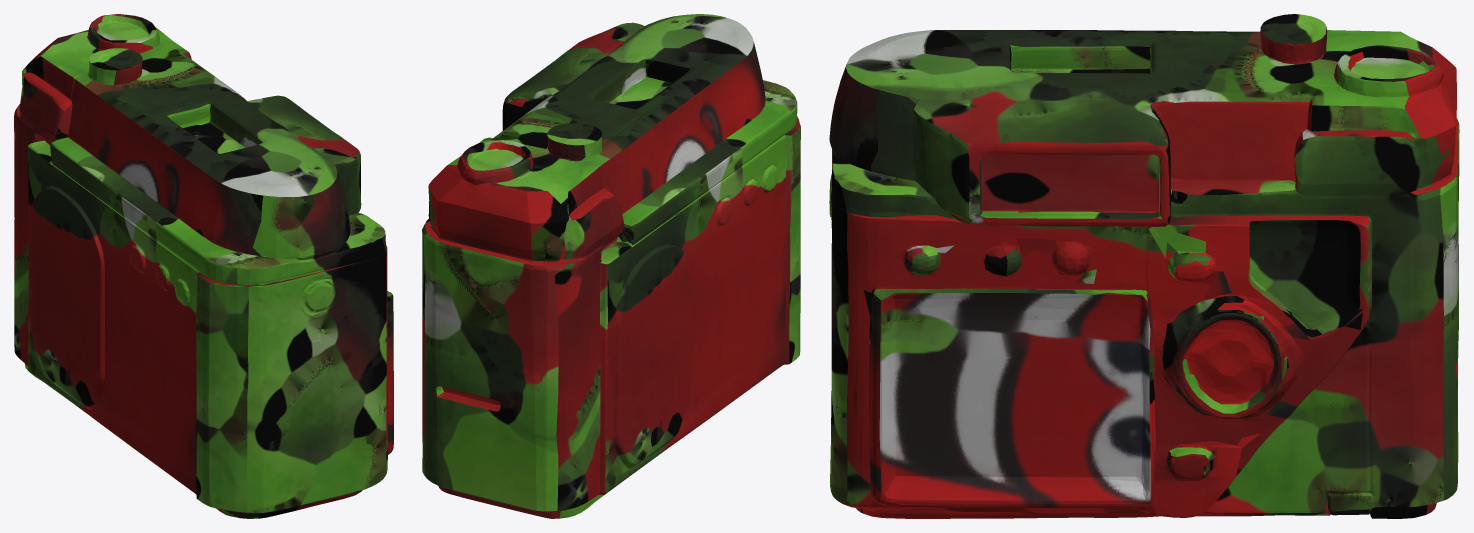
Rendered from sample.obj.
The picture shows the model from 3 angles, left to right: view 1: azimuth 30°, elevation 25°; view 2: azimuth 150°, elevation 25°; view 3: azimuth 270°, elevation 25°; orthographic projection. The views are drawn at different scales.
Bounding box in the file's own units: 0.0731 × 0.12 × 0.158.
